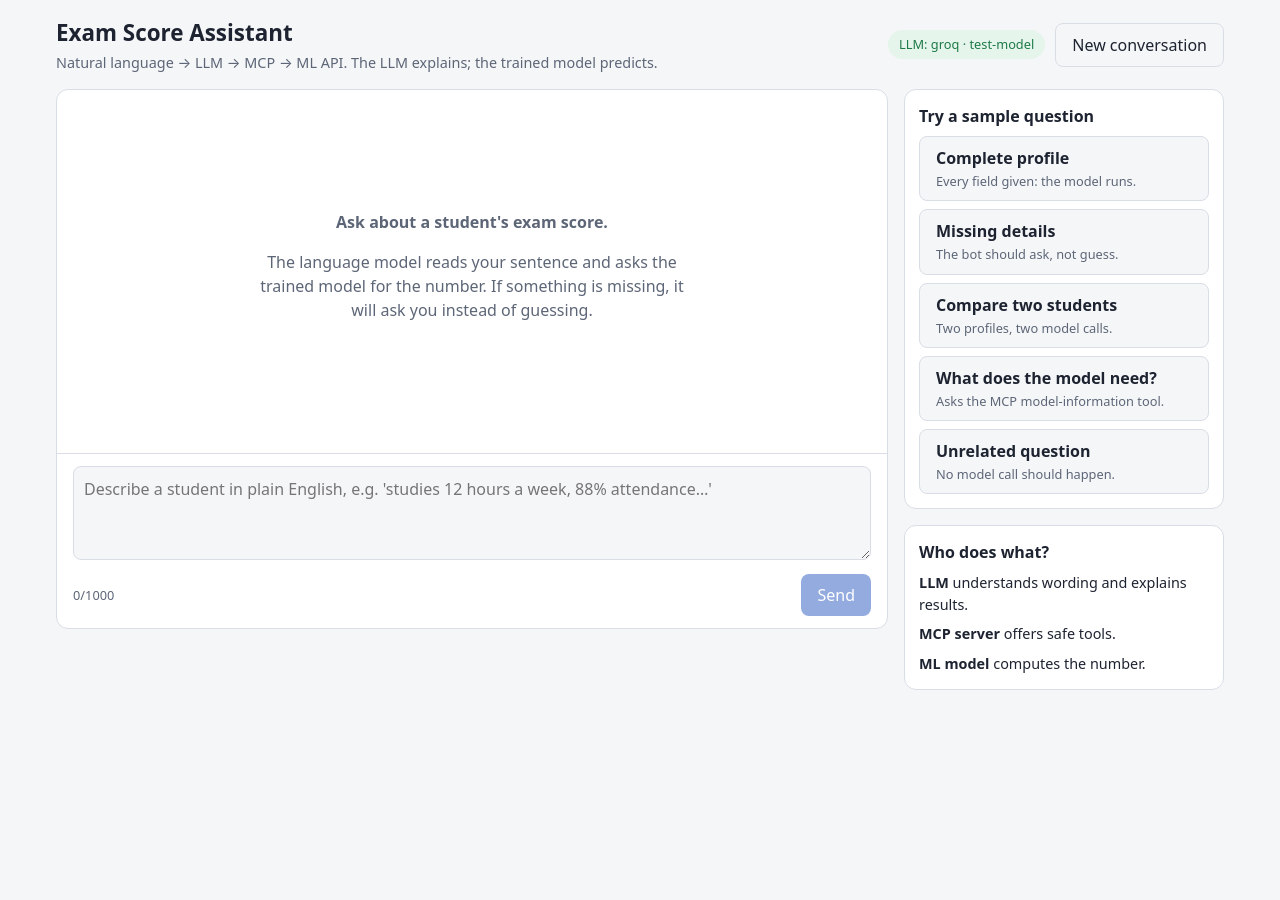
it: rendering model output › shows an ML failure (kind=error) as an alert, with no score
The width and height of the screenshot is (1280, 900).
Click the text box named "Your question".
click(472, 513)  # box x1=73 y1=466 x2=871 y2=560
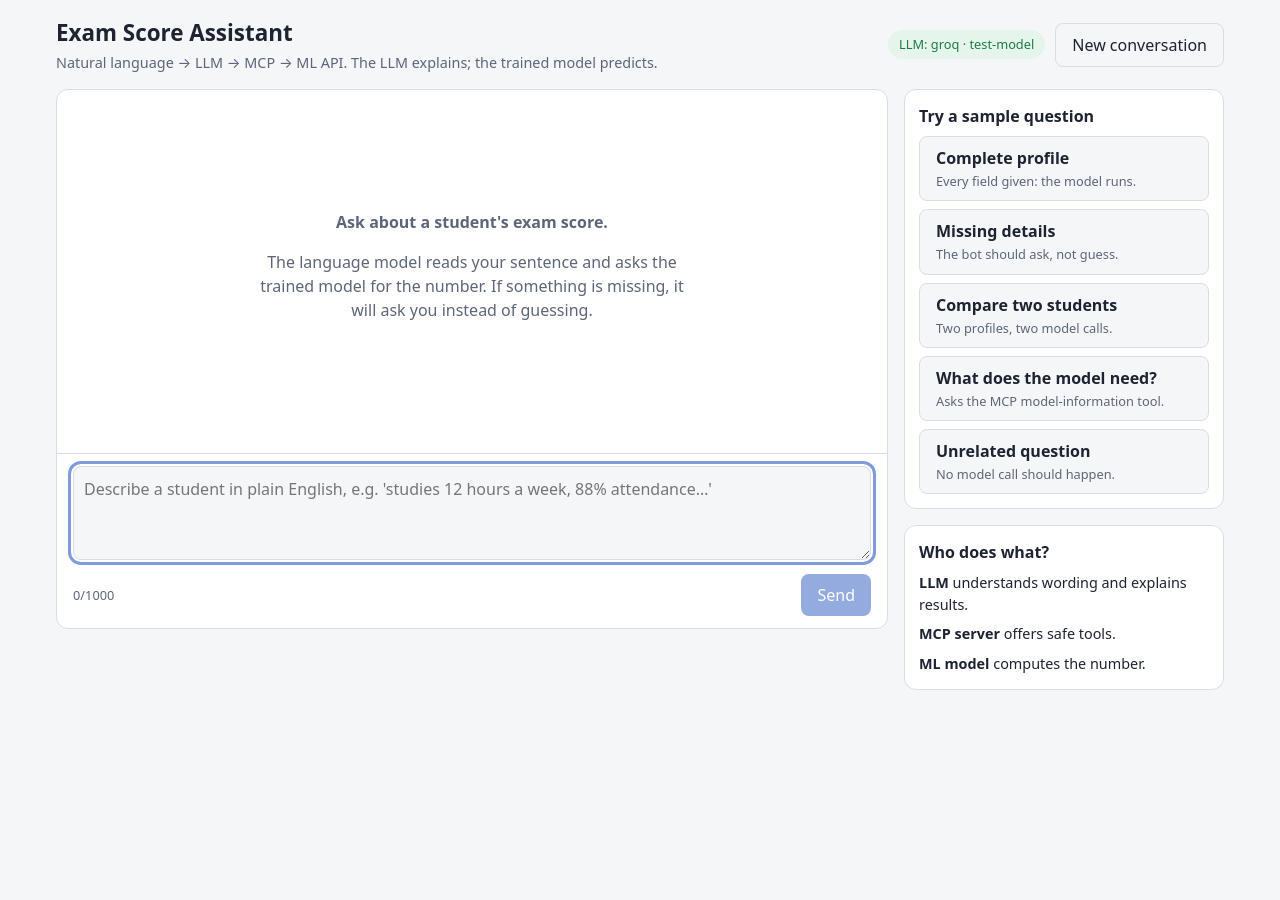
Type keys "predict"
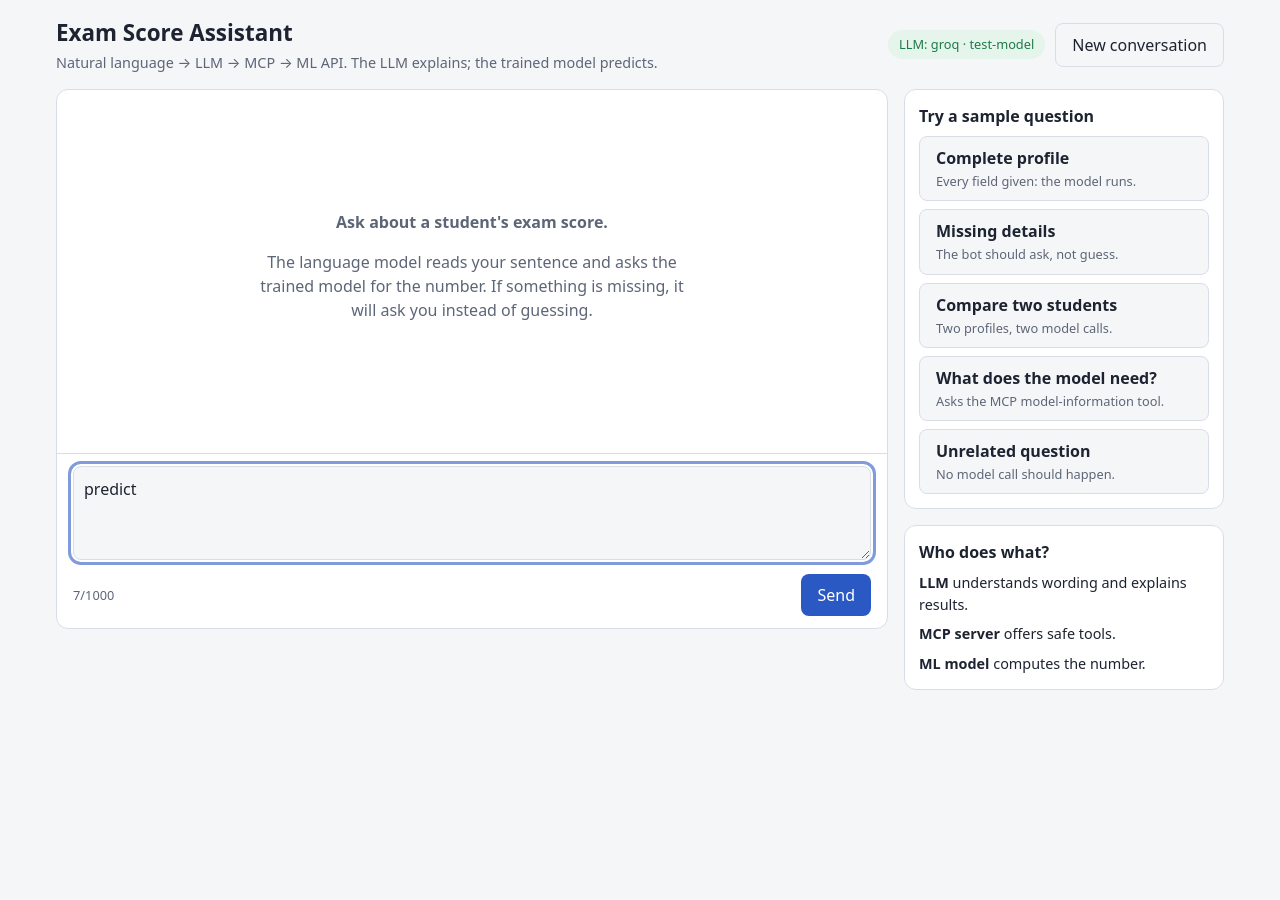
Click the button "Send".
click(836, 595)  # box x1=802 y1=574 x2=871 y2=616
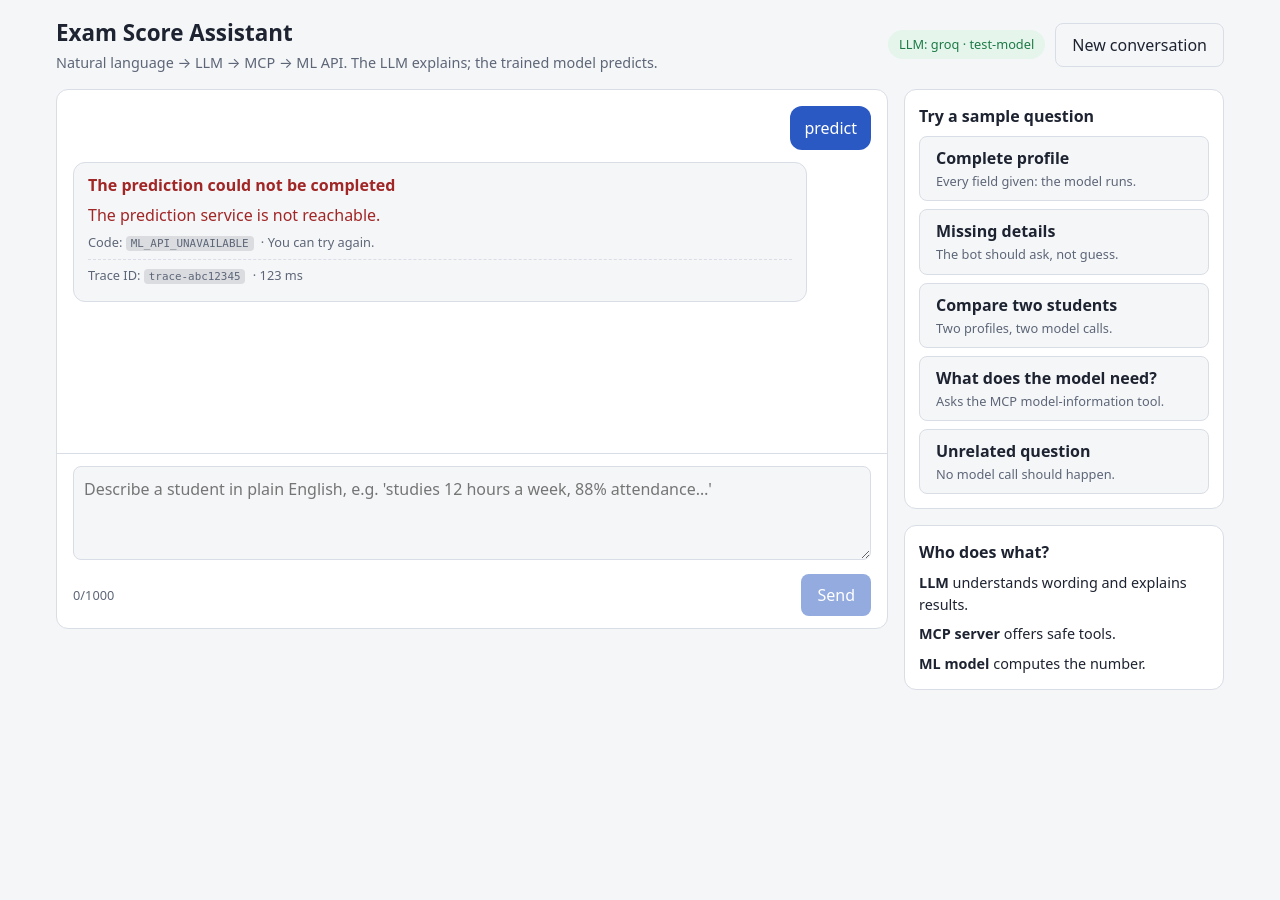
Now the message shows "The prediction service is not reachable.", box x1=88 y1=204 x2=380 y2=226
Now the message shows "ML_API_UNAVAILABLE", box x1=131 y1=237 x2=249 y2=250
